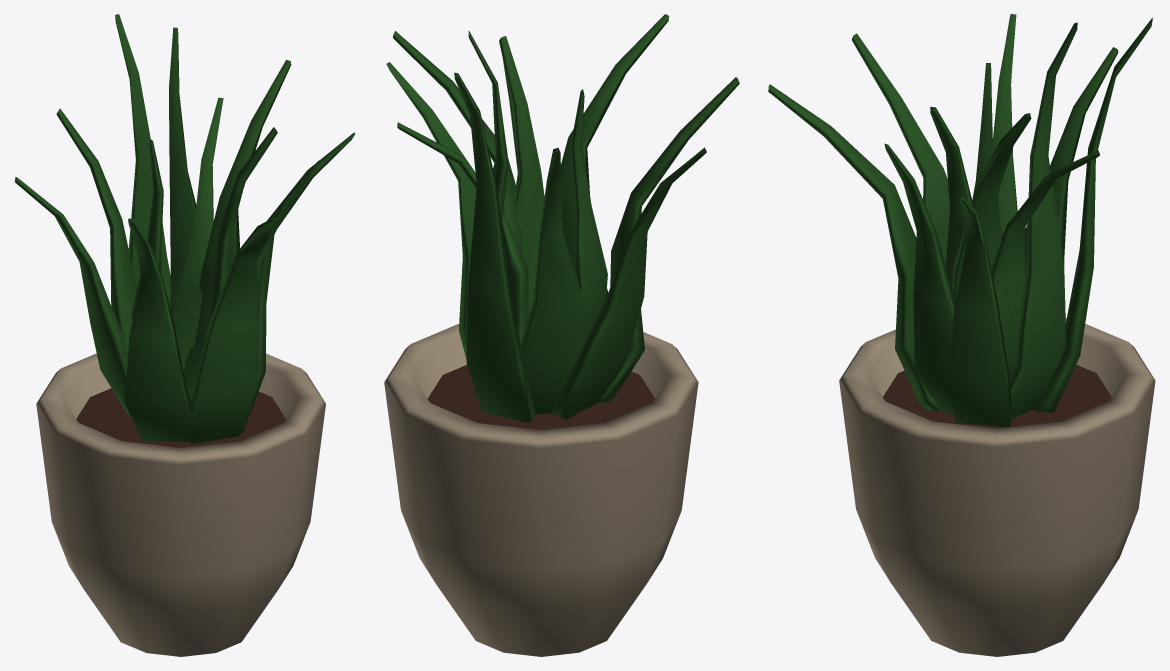
3 views of the same model, side by side, from view 1: azimuth 30°, elevation 25°; view 2: azimuth 150°, elevation 25°; view 3: azimuth 270°, elevation 25° (orthographic). The views are drawn at different scales.
Parts seen in each view (by area): view 1: flower.043; view 2: flower.043; view 3: flower.043.
Part boxes in pixels (x1,y1,x2,y2): flower.043: (14, 14, 355, 656); flower.043: (384, 14, 739, 656); flower.043: (768, 14, 1155, 656).
Bounding box in the file's own units: 0.3911 × 0.6688 × 0.3795.
